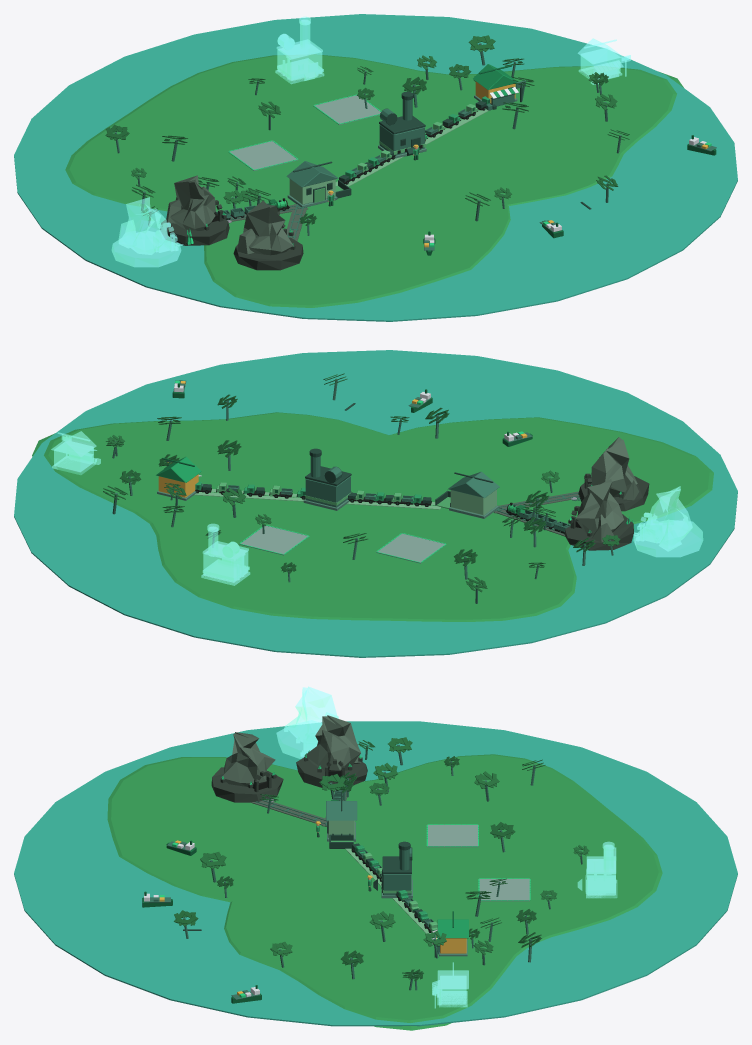
The model's file is Island_Emerald.fbx.
The picture shows the model from 3 angles, top to bottom: view 1: azimuth 30°, elevation 25°; view 2: azimuth 150°, elevation 25°; view 3: azimuth 270°, elevation 25°; orthographic projection.
Visible parts, largest first — view 1: isle_Emerald, lagoon_Emerald, ghost_mine.006, mine_Emerald.001, mine_Emerald, ghost_refinery.006, refinery.006, storage.006, market.006, ghost_market.006, pad_expand.012, pad_expand.013; view 2: isle_Emerald, lagoon_Emerald, ghost_mine.006, mine_Emerald, mine_Emerald.001, storage.006, ghost_refinery.006, refinery.006, ghost_market.006, market.006, pad_expand.012, pad_expand.013; view 3: isle_Emerald, lagoon_Emerald, mine_Emerald.001, mine_Emerald, ghost_mine.006, ghost_refinery.006, refinery.006, storage.006, ghost_market.006, pad_expand.012, pad_expand.013, market.006.
Boxes of the visible parts, x1,y1,x2,y2 form: isle_Emerald: (65,54,683,307); lagoon_Emerald: (14,14,737,321); ghost_mine.006: (111,197,183,267); mine_Emerald.001: (233,200,303,270); mine_Emerald: (160,175,229,245); ghost_refinery.006: (275,16,324,84); refinery.006: (378,91,426,158); storage.006: (286,161,351,207); market.006: (473,64,525,110); ghost_market.006: (578,38,630,84); pad_expand.012: (228,140,298,170); pad_expand.013: (313,94,381,124); isle_Emerald: (32,412,713,621); lagoon_Emerald: (14,350,737,657); ghost_mine.006: (633,486,703,557); mine_Emerald: (564,479,633,550); mine_Emerald.001: (572,437,649,511); storage.006: (435,471,499,518); ghost_refinery.006: (201,523,250,585); refinery.006: (303,448,352,510); ghost_market.006: (51,431,100,474); market.006: (156,456,203,500); pad_expand.012: (376,533,446,563); pad_expand.013: (239,525,309,555); isle_Emerald: (107,754,662,1030); lagoon_Emerald: (14,721,737,1026); mine_Emerald.001: (211,732,283,802); mine_Emerald: (296,715,367,787); ghost_mine.006: (276,686,338,758); ghost_refinery.006: (577,841,617,898); refinery.006: (373,841,412,898); storage.006: (326,791,357,848); ghost_market.006: (432,962,468,1008); pad_expand.012: (426,824,478,847); pad_expand.013: (478,878,530,901); market.006: (432,911,468,957).
Bounding box in the file's own units: 157 × 19.16 × 156.
